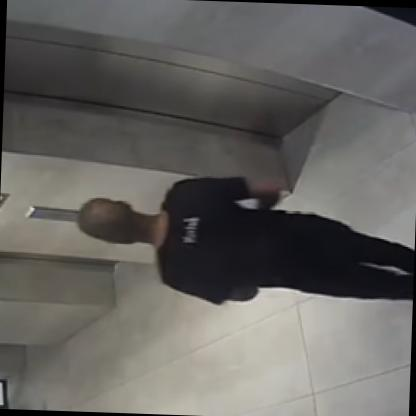Human Body: (75, 171, 416, 312)
